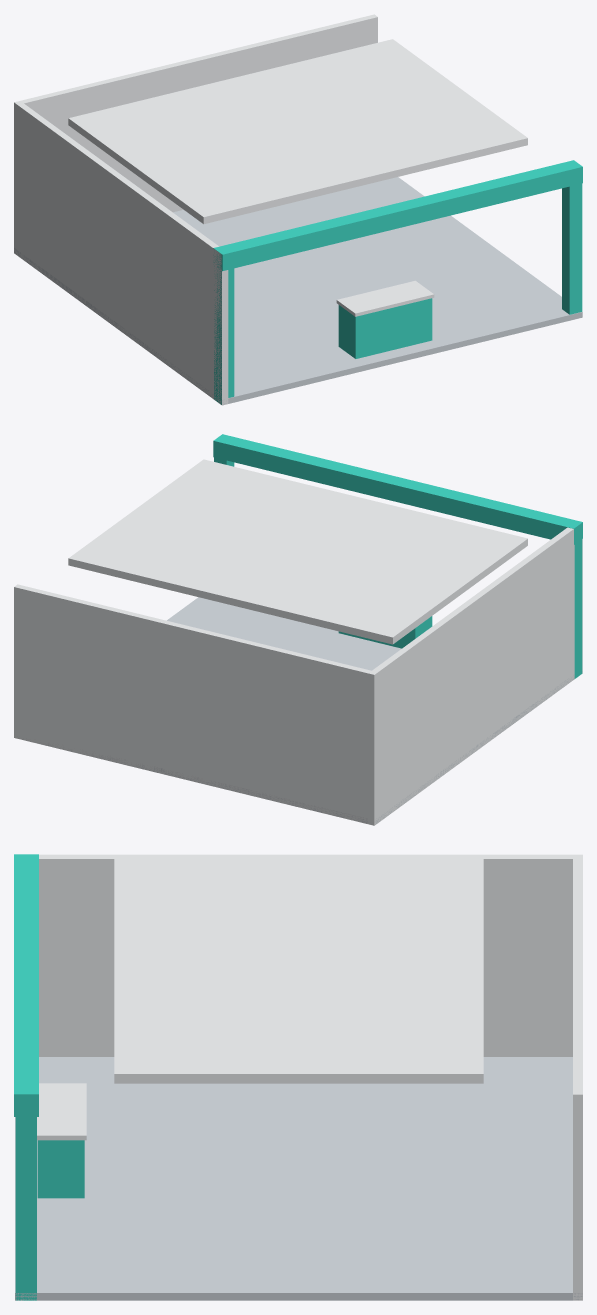
The picture shows the model from 3 angles, top to bottom: view 1: azimuth 30°, elevation 25°; view 2: azimuth 150°, elevation 25°; view 3: azimuth 270°, elevation 25°; orthographic projection. The views are drawn at different scales.
Parts seen in each view (by area): view 1: Exhibition Booth Concept; view 2: Exhibition Booth Concept; view 3: Exhibition Booth Concept.
Part boxes in pixels (bbox=[...]): Exhibition Booth Concept: bbox=[14, 14, 582, 405]; Exhibition Booth Concept: bbox=[14, 434, 582, 825]; Exhibition Booth Concept: bbox=[14, 854, 582, 1300].
Bounding box in the file's own units: 8 × 3.34 × 8.01.
